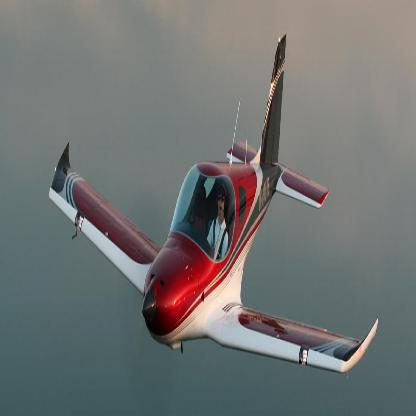CIV_Plane: (43, 33, 381, 382)
